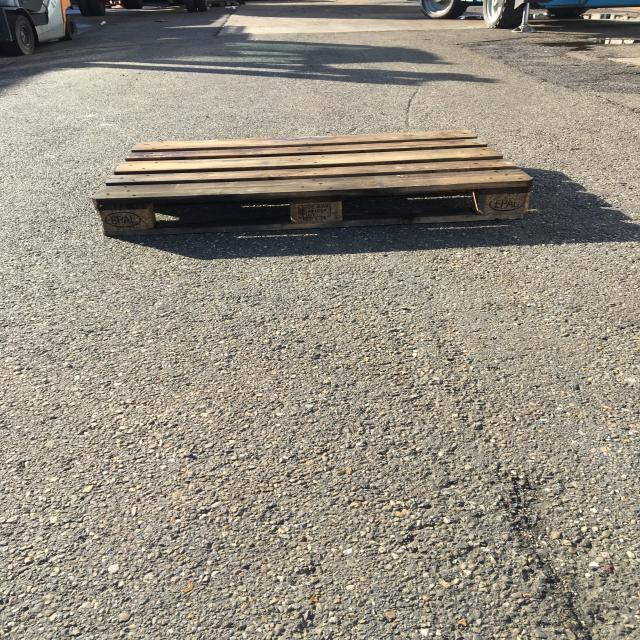block: (470, 186, 536, 220), (93, 203, 156, 234), (287, 199, 347, 230)
front: (94, 179, 540, 238)
